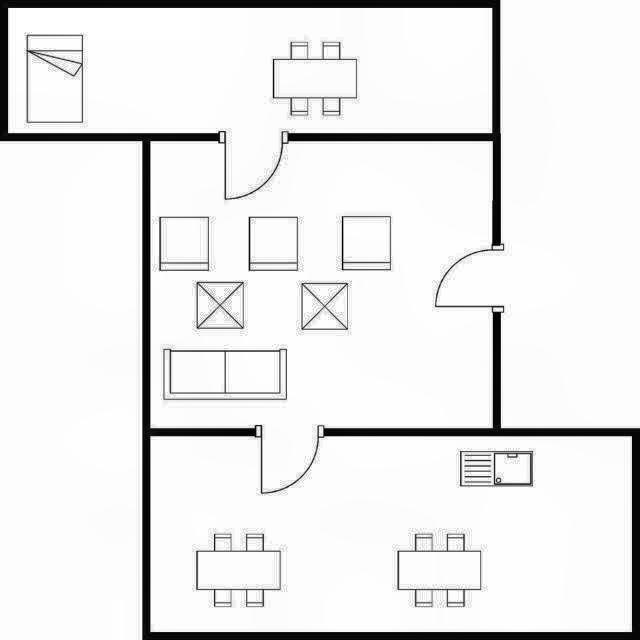room: (150, 141, 493, 428), (150, 436, 632, 632), (8, 8, 492, 133)
